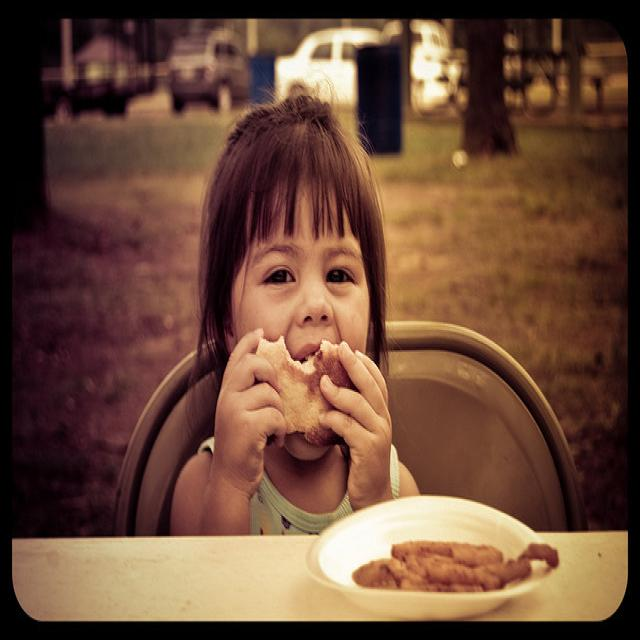Vehicle: (271, 26, 383, 112), (169, 30, 253, 116), (64, 43, 154, 123), (410, 19, 468, 111)
